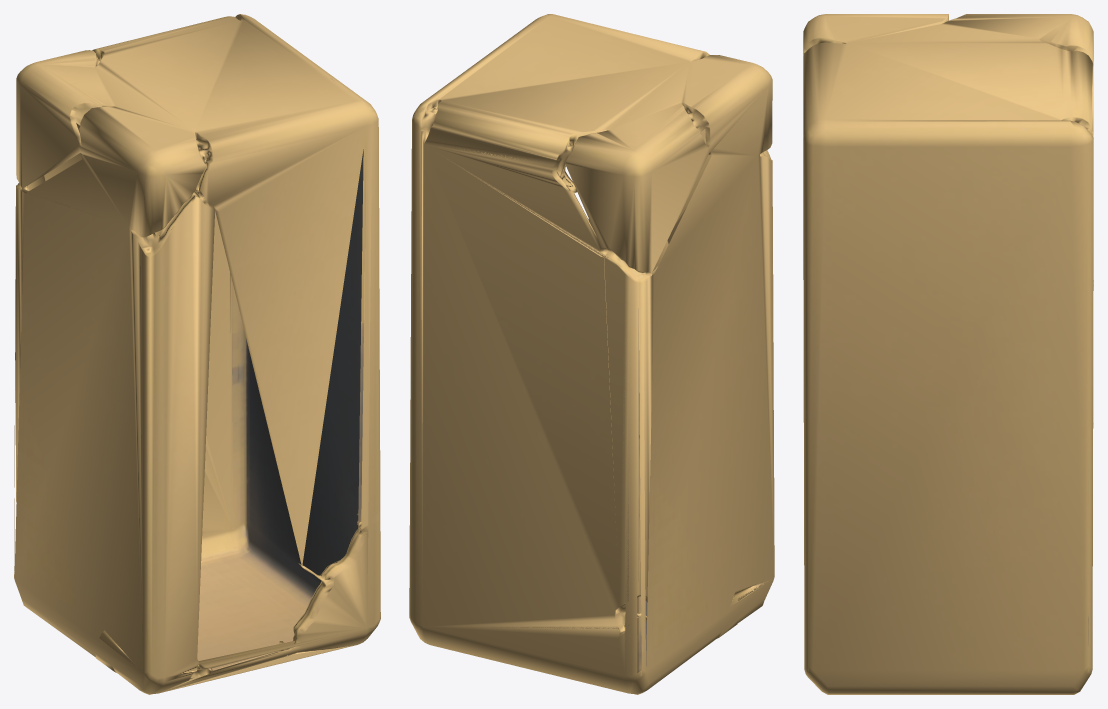
File: selected.fbx
The picture shows the model from 3 angles, left to right: view 1: azimuth 30°, elevation 25°; view 2: azimuth 150°, elevation 25°; view 3: azimuth 270°, elevation 25°; orthographic projection. The views are drawn at different scales.
Visible parts, largest first — view 1: tripo_node_c65ee744-a3fd-4d2e-8bf6-8d2776013f72; view 2: tripo_node_c65ee744-a3fd-4d2e-8bf6-8d2776013f72; view 3: tripo_node_c65ee744-a3fd-4d2e-8bf6-8d2776013f72.
Boxes of the visible parts, <box> form: tripo_node_c65ee744-a3fd-4d2e-8bf6-8d2776013f72: <box>14,14,380,694</box>; tripo_node_c65ee744-a3fd-4d2e-8bf6-8d2776013f72: <box>409,14,774,694</box>; tripo_node_c65ee744-a3fd-4d2e-8bf6-8d2776013f72: <box>803,14,1093,694</box>.
Bounding box in the file's own units: 45.51 × 99.8 × 45.9.
Materials: 1 (1 with a texture image).
